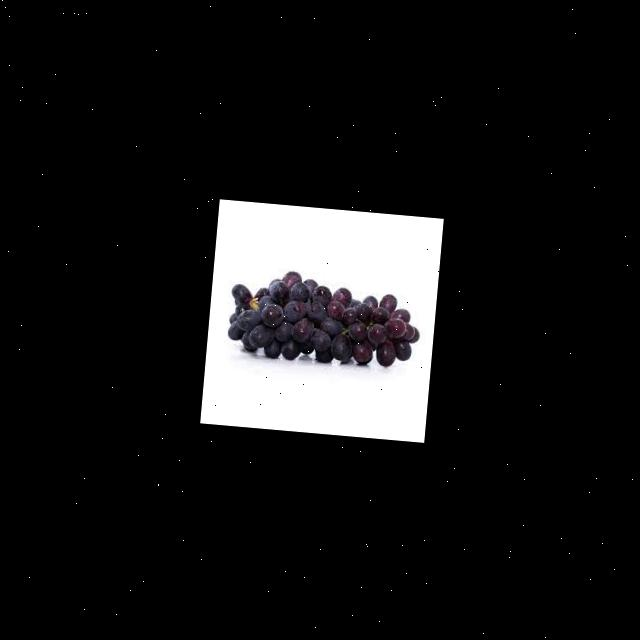grape: (224, 264, 423, 370)
